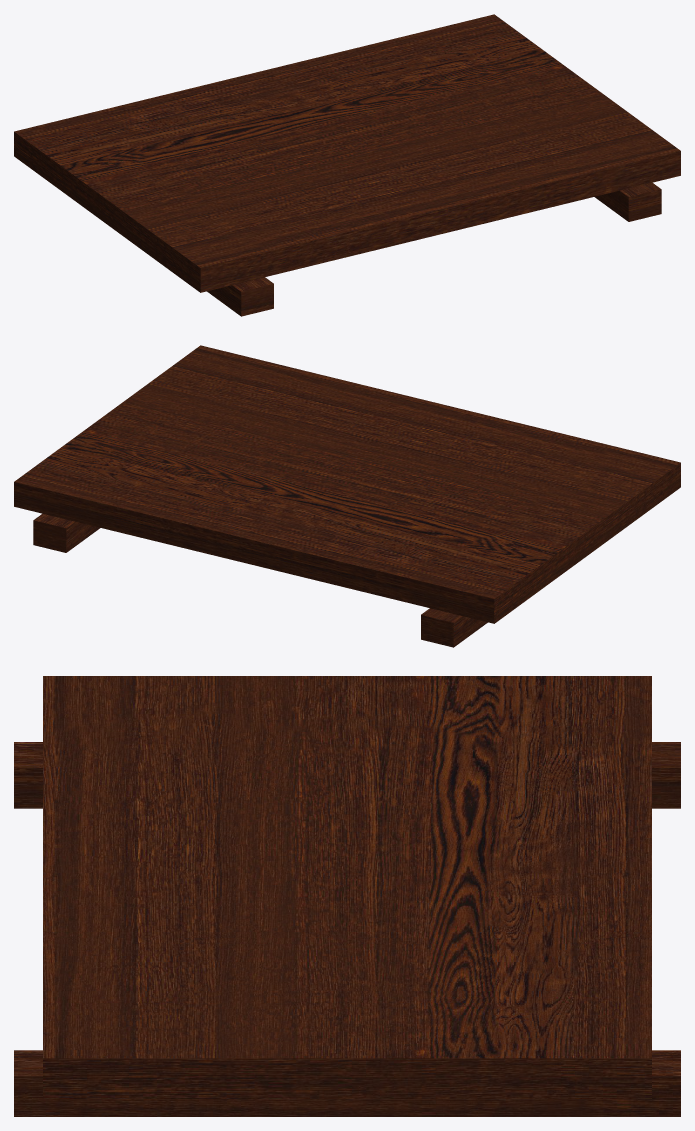
The model's file is shelf.fbx.
3 renders of one model, top to bottom at view 1: azimuth 30°, elevation 25°; view 2: azimuth 150°, elevation 25°; view 3: azimuth 270°, elevation 25°, orthographic. The views are drawn at different scales.
Visible parts, largest first — view 1: shelf 1; view 2: shelf 1; view 3: shelf 1.
Part boxes in pixels (x1=…): shelf 1: x1=14, y1=14, x2=680, y2=316; shelf 1: x1=14, y1=345, x2=680, y2=647; shelf 1: x1=14, y1=676, x2=680, y2=1116.
Bounding box in the file's own units: 0.8807 × 0.0871 × 0.6492.
Materials: 1 (1 with a texture image).
